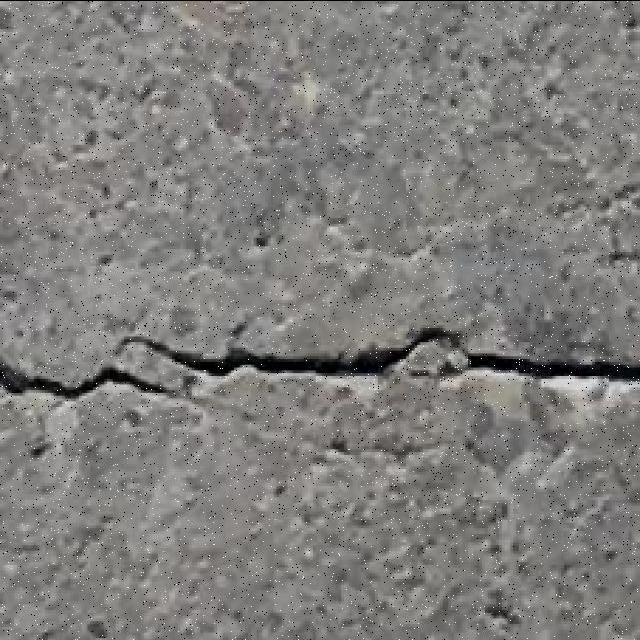vegetation: (0, 322, 639, 430)
